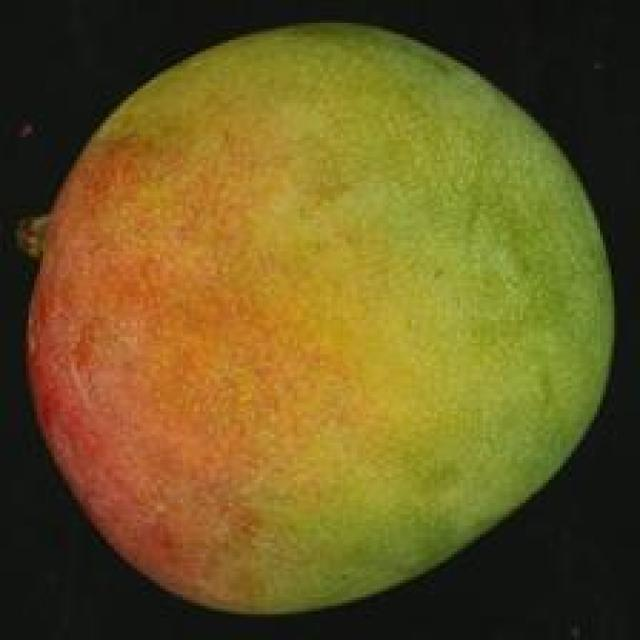Good_Mango: (23, 20, 620, 617)
